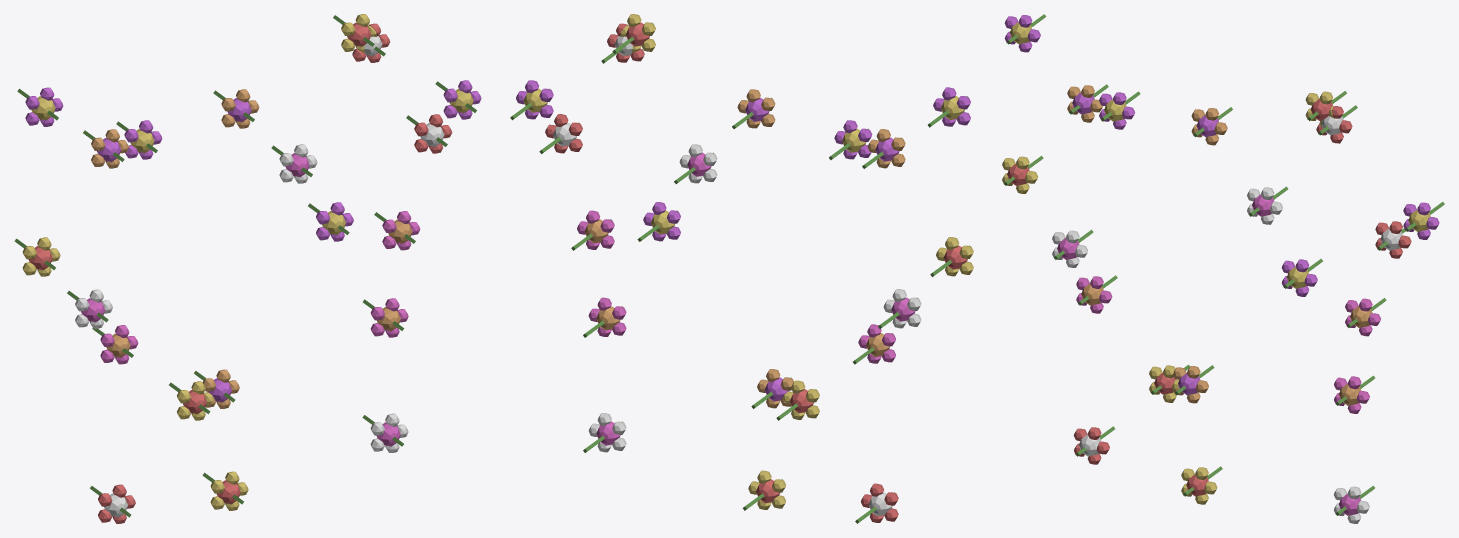
File: flowers.glb
3 views of the same model, side by side, from view 1: azimuth 30°, elevation 25°; view 2: azimuth 150°, elevation 25°; view 3: azimuth 330°, elevation 25° (orthographic). The views are drawn at different scales.
Visible parts, largest first — view 1: geometry_0; view 2: geometry_0; view 3: geometry_0.
Boxes of the visible parts, x1,y1,x2,y2 form: geometry_0: (14, 14, 481, 523); geometry_0: (510, 14, 973, 523); geometry_0: (1002, 14, 1444, 523).
Bounding box in the file's own units: 1.05 × 1.03 × 0.15.
